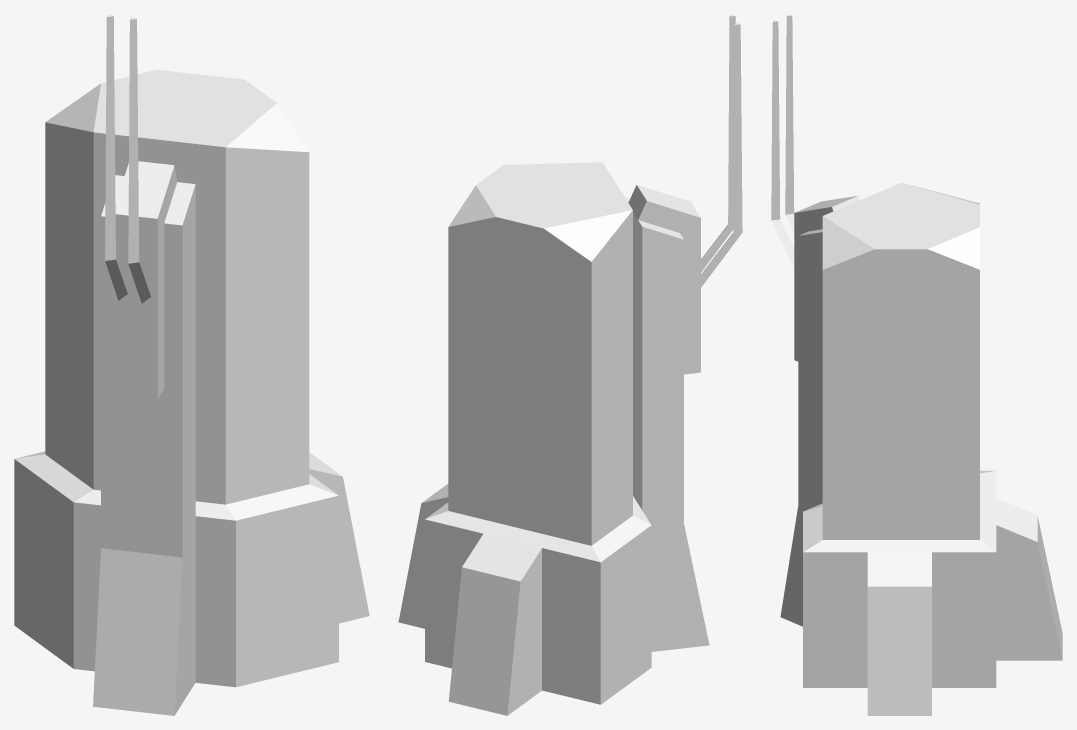
The model's file is radarst.obj.
The picture shows the model from 3 angles, left to right: view 1: azimuth 30°, elevation 25°; view 2: azimuth 150°, elevation 25°; view 3: azimuth 270°, elevation 25°; orthographic projection. The views are drawn at different scales.
Visible parts, largest first — view 1: cube2_sep91_cube2_copy27_auv; view 2: cube2_sep91_cube2_copy27_auv; view 3: cube2_sep91_cube2_copy27_auv.
Boxes of the visible parts, box(x1,y1,x2,y2) form: cube2_sep91_cube2_copy27_auv: box(14, 14, 369, 715); cube2_sep91_cube2_copy27_auv: box(398, 14, 742, 715); cube2_sep91_cube2_copy27_auv: box(771, 14, 1062, 715).
Size of the model in its own units: 15.37 by 33.27 by 15.19.
2 materials, 1 textured.
